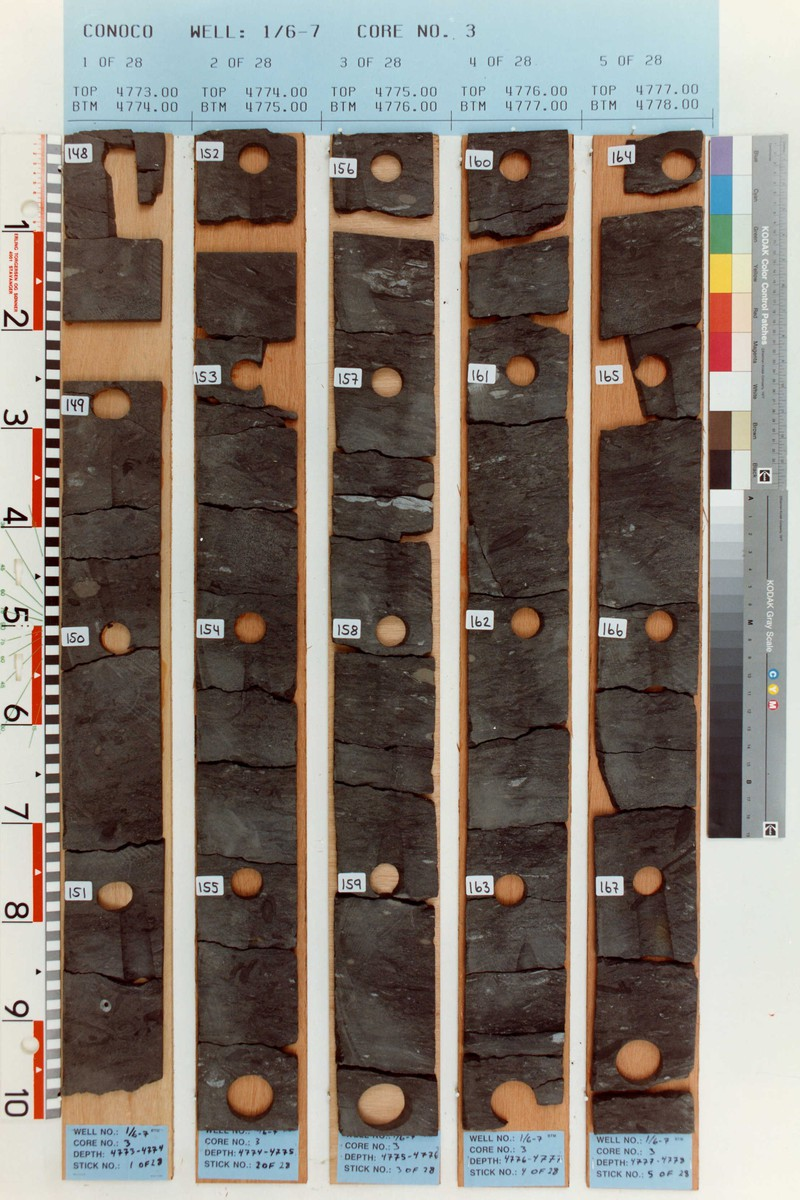core: (328, 132, 439, 1136), (594, 131, 705, 1131), (462, 130, 571, 1131), (195, 130, 300, 1129), (61, 130, 163, 1099)
